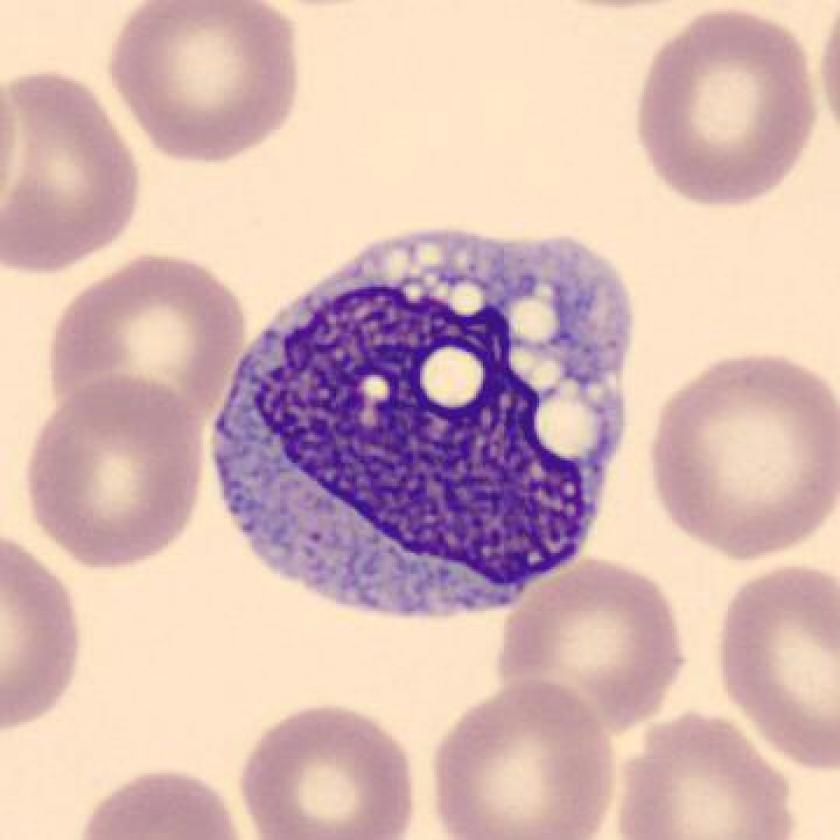monocyte: (192, 209, 645, 628)
